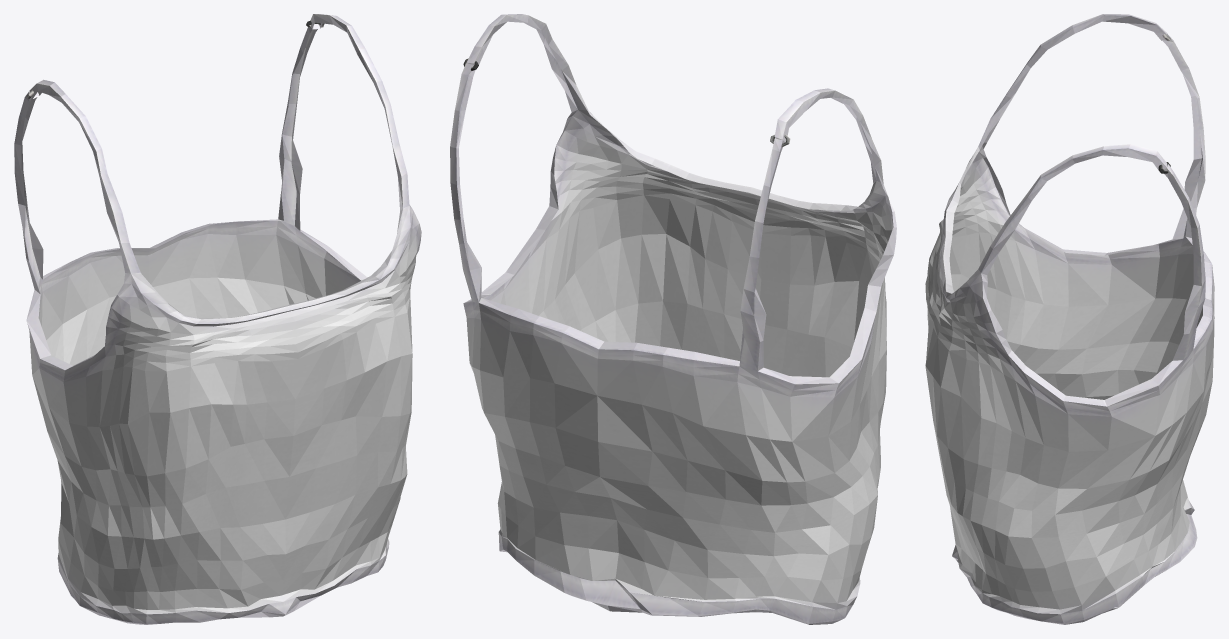
File: mhw_punkduck_spaghetti_strap_tank_top.glb
3 renders of one model, left to right at view 1: azimuth 30°, elevation 25°; view 2: azimuth 150°, elevation 25°; view 3: azimuth 270°, elevation 25°, orthographic. The views are drawn at different scales.
Visible parts, largest first — view 1: mhw_punkduck_spaghetti_strap_tank_top; view 2: mhw_punkduck_spaghetti_strap_tank_top; view 3: mhw_punkduck_spaghetti_strap_tank_top.
Part boxes in pixels (x1,y1,x2,y2): mhw_punkduck_spaghetti_strap_tank_top: [14, 14, 421, 624]; mhw_punkduck_spaghetti_strap_tank_top: [450, 14, 896, 624]; mhw_punkduck_spaghetti_strap_tank_top: [925, 14, 1214, 624].
Size of the model in its own units: 0.3328 by 0.4844 by 0.2646.
1 material, 1 textured.
